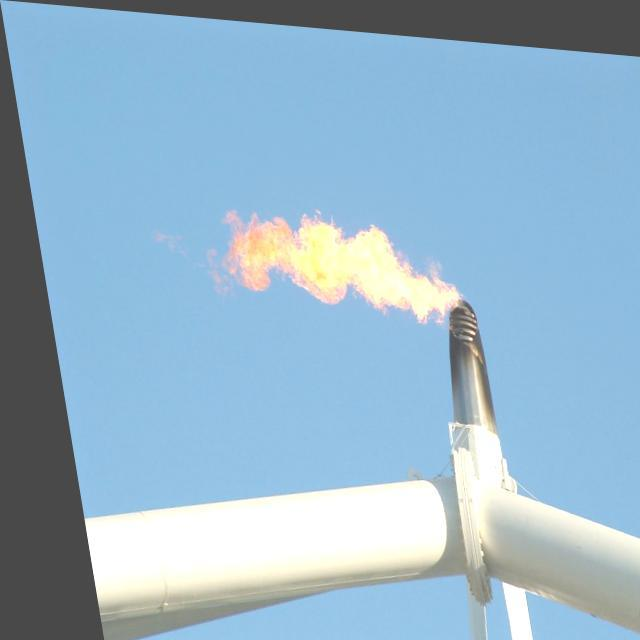Fire: (220, 190, 470, 345)
